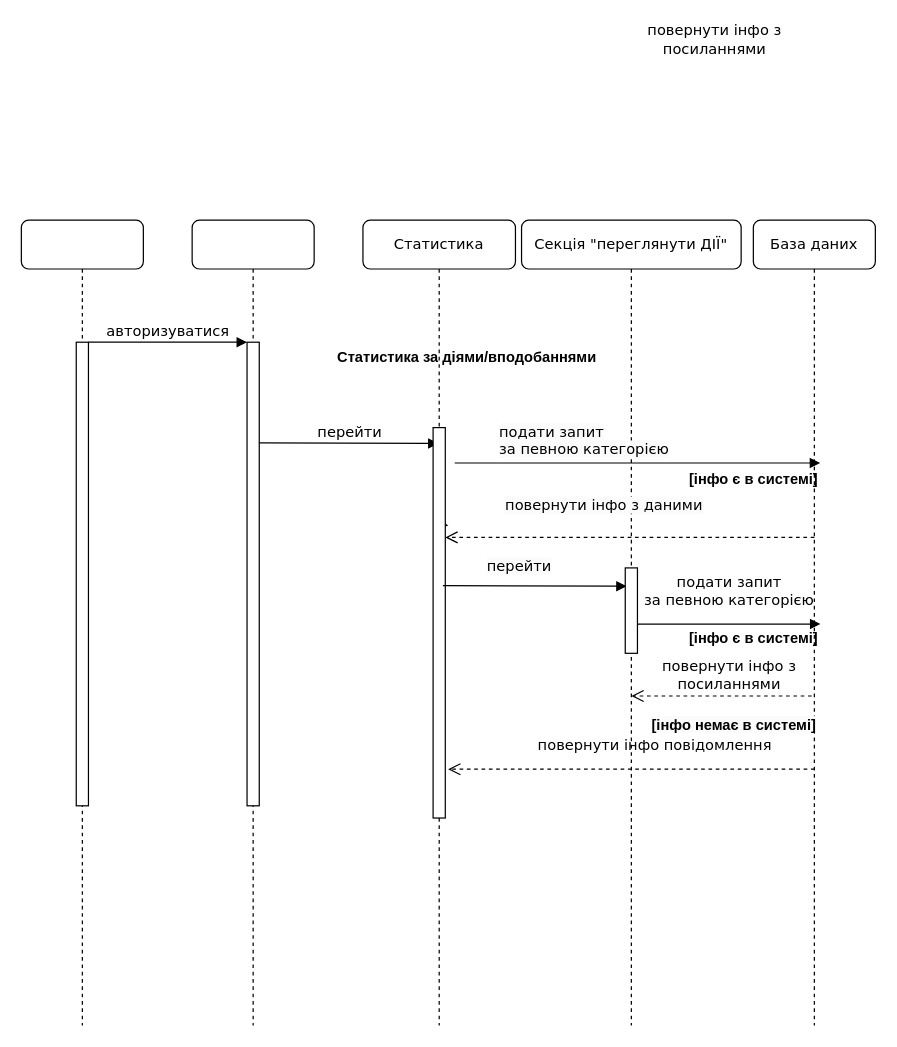
Image size: 897x1047. Some labels were removed from this diagram. The shapes that lost their labels are listed below. From the top down, each one's box as (x1, y1, x2, y2) in pixels, then its label:
(20, 219, 143, 1025): Користувач
(191, 219, 314, 1025): UI додатку
